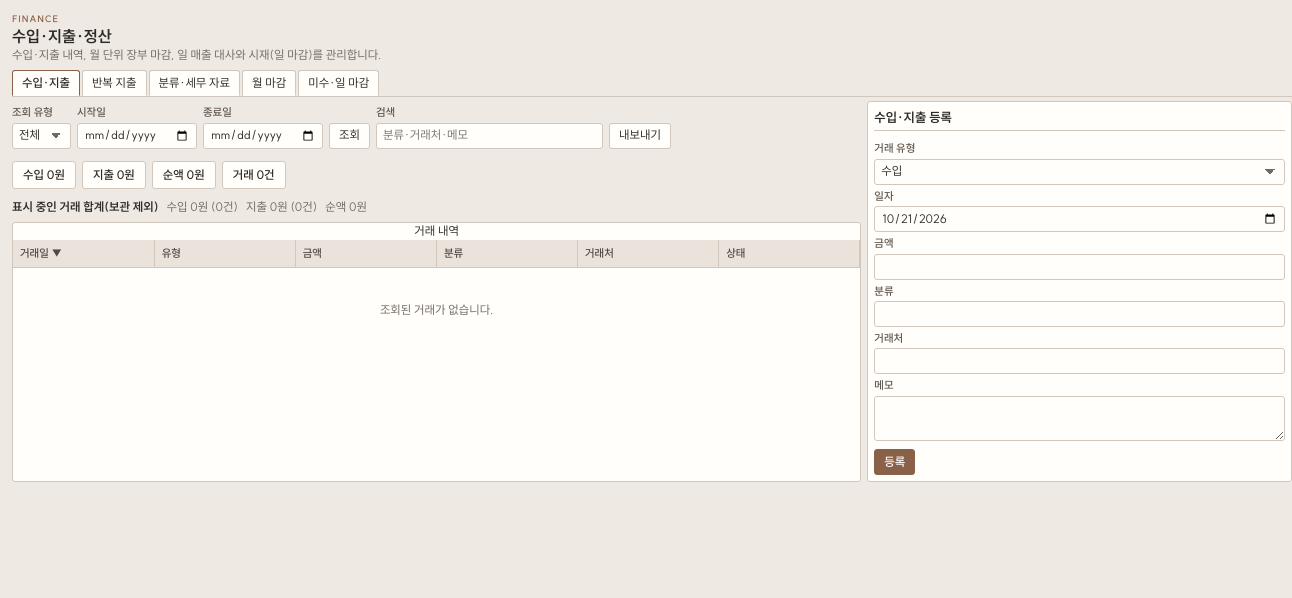
Test: RecurringPanel 반복 지출(FIN-11) › 목록에 금액·분류·이번 달 등록일(말일 보정)과 상태를 보인다
This screenshot has width=1292, height=598.
Click the tab "반복 지출" at coordinates (114, 83), box top-left (82, 70), bottom-right (147, 96)
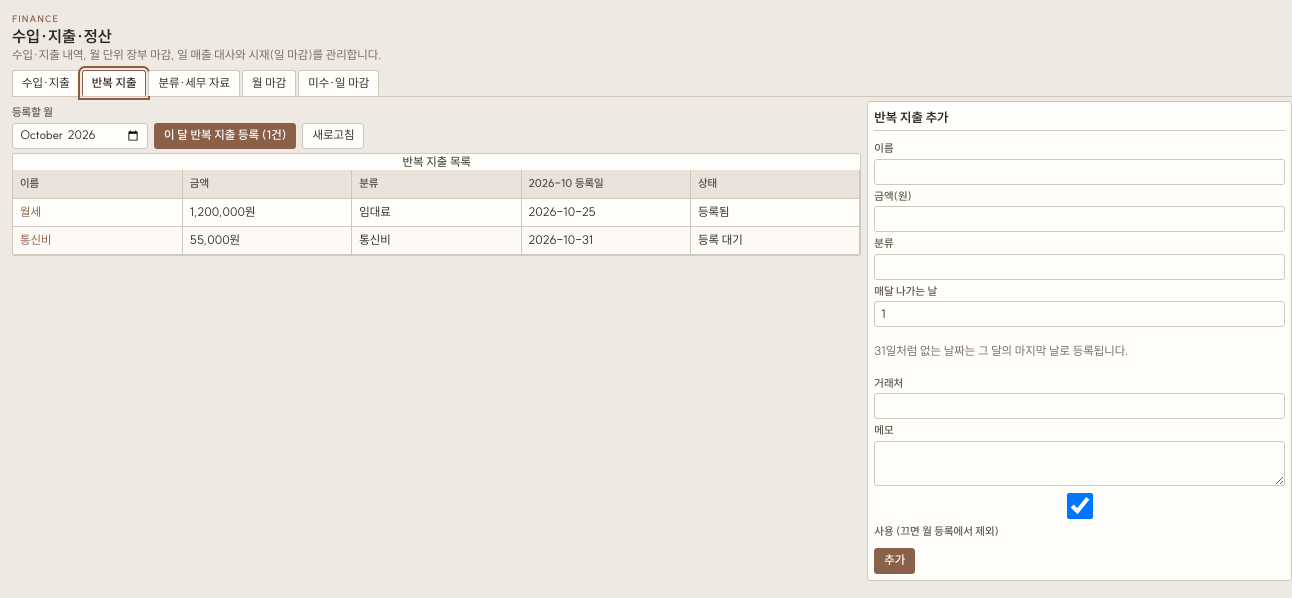
Expected: the table "반복 지출 목록" is shown, top-left (13, 154), bottom-right (860, 255)
Expected: the text "1,200,000원" is shown, top-left (182, 198), bottom-right (352, 226)
Expected: the text "2026-10-31" is shown, top-left (521, 226), bottom-right (690, 254)
